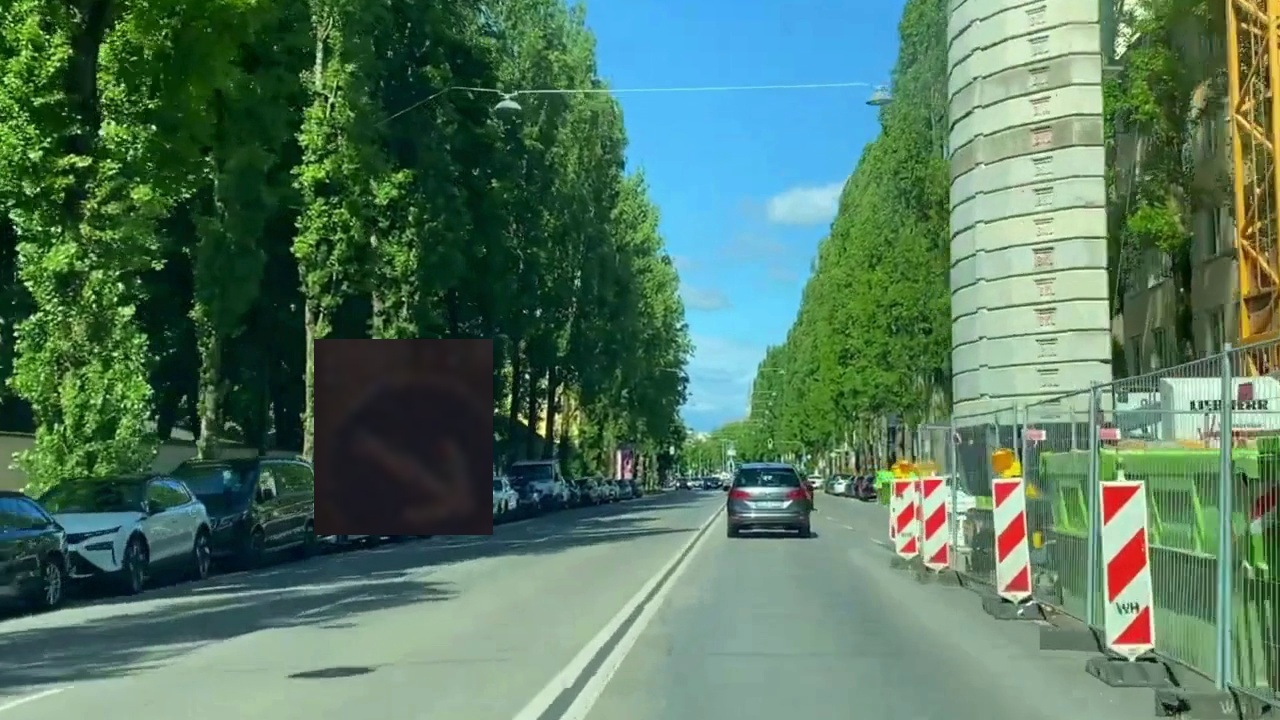Keep right: (314, 339, 493, 535)
